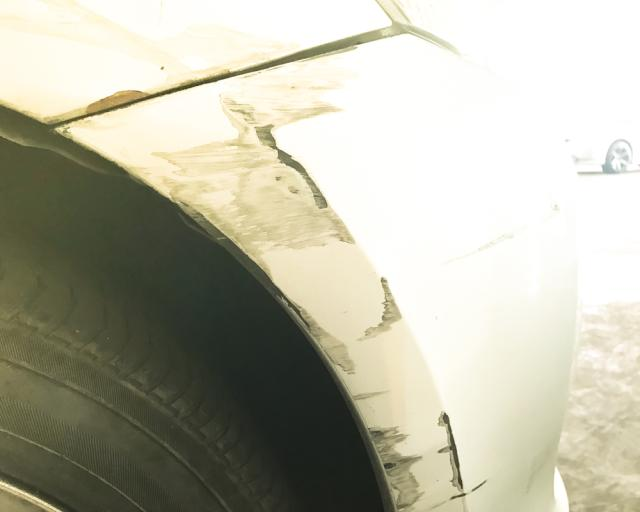scratch: (119, 44, 489, 512)
